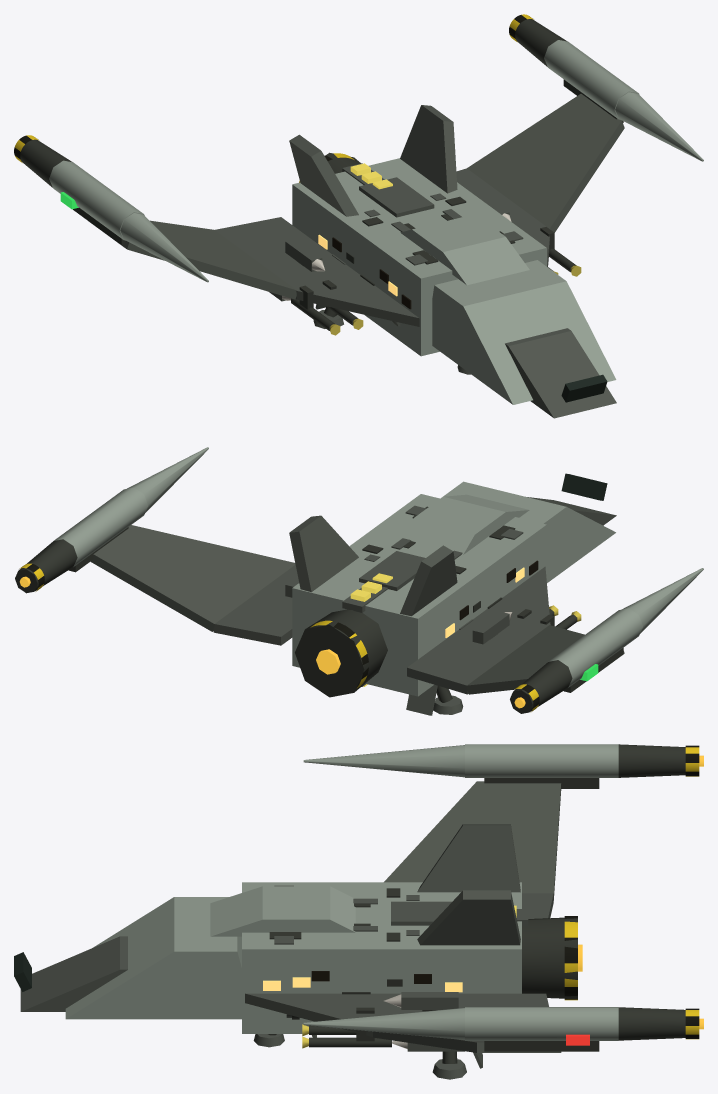
The model's file is fighter-l.glb.
The picture shows the model from 3 angles, top to bottom: view 1: azimuth 30°, elevation 25°; view 2: azimuth 150°, elevation 25°; view 3: azimuth 270°, elevation 25°; orthographic projection. The views are drawn at different scales.
Visible parts, largest first — view 1: hullMain, hullForebody, wingOuterRight, wingInnerLeft, nacelleBody (×2), hullNose, canopyFairing, wingOuterLeft, nacelleNoseCone (×2), stabilizerFinR, stabilizerFinL, nacelleEngineBell (×2) (+4 smaller); view 2: hullMain, wingOuterRight, wingInnerLeft, nacelleBody (×2), engineHousing, hullForebody, canopyFairing, wingInnerRight, nacelleEngineBell (×2), stabilizerFinR, wingOuterLeft, nacelleNoseCone (×2) (+8 smaller); view 3: hullMain, hullForebody, nacelleBody (×2), wingOuterLeft, canopyFairing, nacelleNoseCone (×2), stabilizerFinL, wingInnerRight, hullNose, stabilizerFinR, nacelleEngineBell (×2), engineHousing (+8 smaller).
Boxes of the visible parts, left/top/right/bottom form: hullMain: left=292, top=158, right=546, bottom=356; hullForebody: left=432, top=260, right=616, bottom=404; wingOuterRight: left=467, top=94, right=624, bottom=232; wingInnerLeft: left=215, top=217, right=419, bottom=326; nacelleBody (×2): left=49, top=40, right=639, bottom=240; hullNose: left=505, top=328, right=616, bottom=418; canopyFairing: left=400, top=214, right=529, bottom=285; wingOuterLeft: left=91, top=220, right=296, bottom=299; nacelleNoseCone (×2): left=120, top=92, right=703, bottom=282; stabilizerFinR: left=400, top=105, right=457, bottom=193; stabilizerFinL: left=289, top=134, right=358, bottom=216; nacelleEngineBell (×2): left=20, top=19, right=567, bottom=187; hullMain: left=292, top=494, right=546, bottom=696; wingOuterRight: left=90, top=525, right=295, bottom=631; wingInnerLeft: left=407, top=566, right=550, bottom=694; nacelleBody (×2): left=54, top=487, right=642, bottom=687; engineHousing: left=295, top=609, right=387, bottom=697; hullForebody: left=443, top=481, right=615, bottom=582; canopyFairing: left=400, top=494, right=529, bottom=554; wingInnerRight: left=213, top=565, right=297, bottom=645; nacelleEngineBell (×2): left=15, top=539, right=572, bottom=713; stabilizerFinR: left=289, top=515, right=358, bottom=591; wingOuterLeft: left=466, top=625, right=624, bottom=694; nacelleNoseCone (×2): left=127, top=447, right=703, bottom=633; hullMain: left=242, top=882, right=521, bottom=1033; hullForebody: left=65, top=897, right=241, bottom=1019; nacelleBody (×2): left=465, top=744, right=618, bottom=1040; wingOuterLeft: left=384, top=781, right=561, bottom=900; canopyFairing: left=210, top=886, right=355, bottom=936; nacelleNoseCone (×2): left=303, top=745, right=464, bottom=1039; stabilizerFinL: left=417, top=824, right=520, bottom=892; wingInnerRight: left=245, top=993, right=548, bottom=1036; hullNose: left=20, top=936, right=127, bottom=1011; stabilizerFinR: left=417, top=890, right=520, bottom=945; nacelleEngineBell (×2): left=618, top=744, right=685, bottom=1040; engineHousing: left=522, top=917, right=577, bottom=999.
Bounding box in the file's own units: 4.39 × 1.34 × 4.58.
